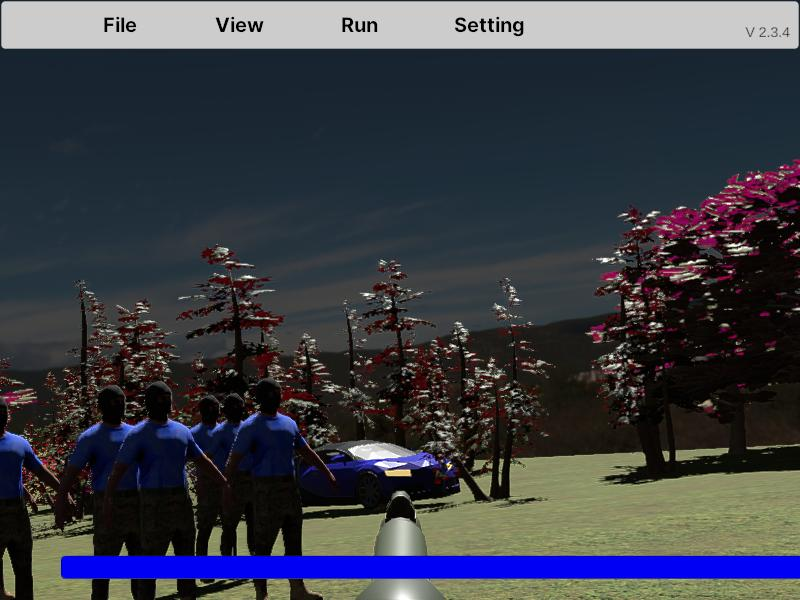Human: (101, 381, 232, 599), (49, 384, 178, 600), (218, 377, 341, 595), (0, 396, 80, 600)
car: (238, 437, 462, 511)
